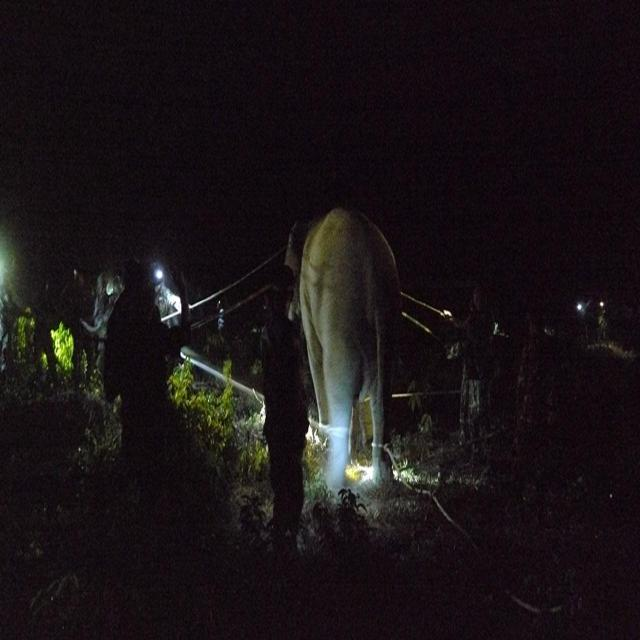Elephant: (282, 189, 421, 512)
